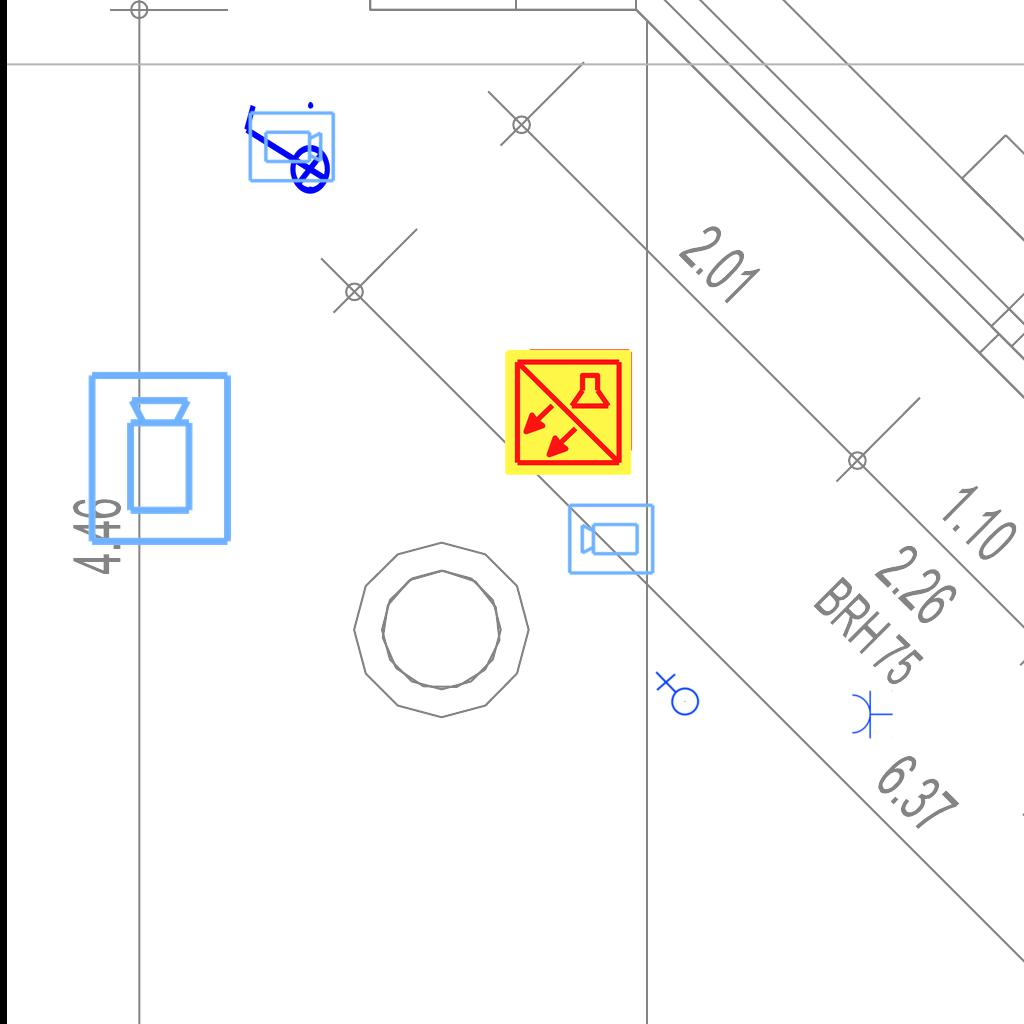Ausschalter_beleuchtet: (236, 96, 332, 208)
Elektroanschluss_allgemein_230V_Geraeteanschlussdose_230V: (653, 671, 700, 720)
KFO_Kamera_mit_Festobjektiv: (84, 368, 238, 550), (566, 500, 657, 577), (246, 109, 337, 186)
OKW_Multisensormelder_(Kombination_optischer_Rauch-Kahlenmonoxid_Waerme-Melder): (502, 346, 634, 478)
Schukosteckdose_einfach: (850, 689, 893, 739)
